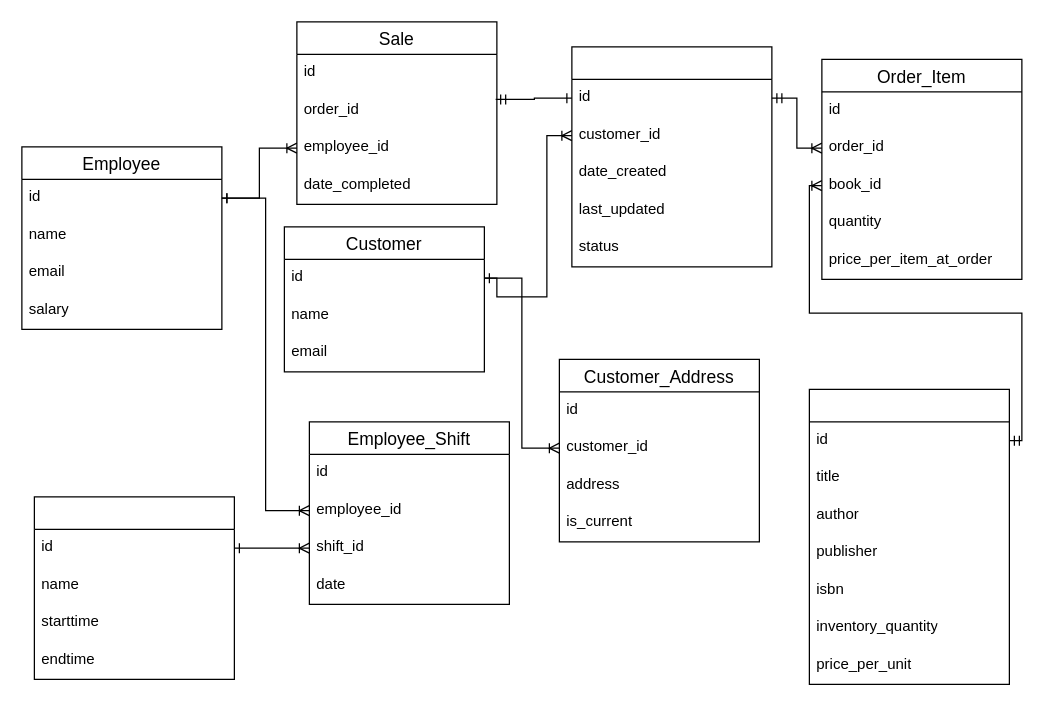
Some shapes in this 1055 by 710 pixel diagram are drawn without their labels. The shapes that lost their labels are listed below. From the top down, each one's box as (x1, y1, x2, y2) in pixels, then its label:
(571, 46, 772, 267): Order
(808, 388, 1009, 684): Book
(33, 496, 234, 679): Shift
